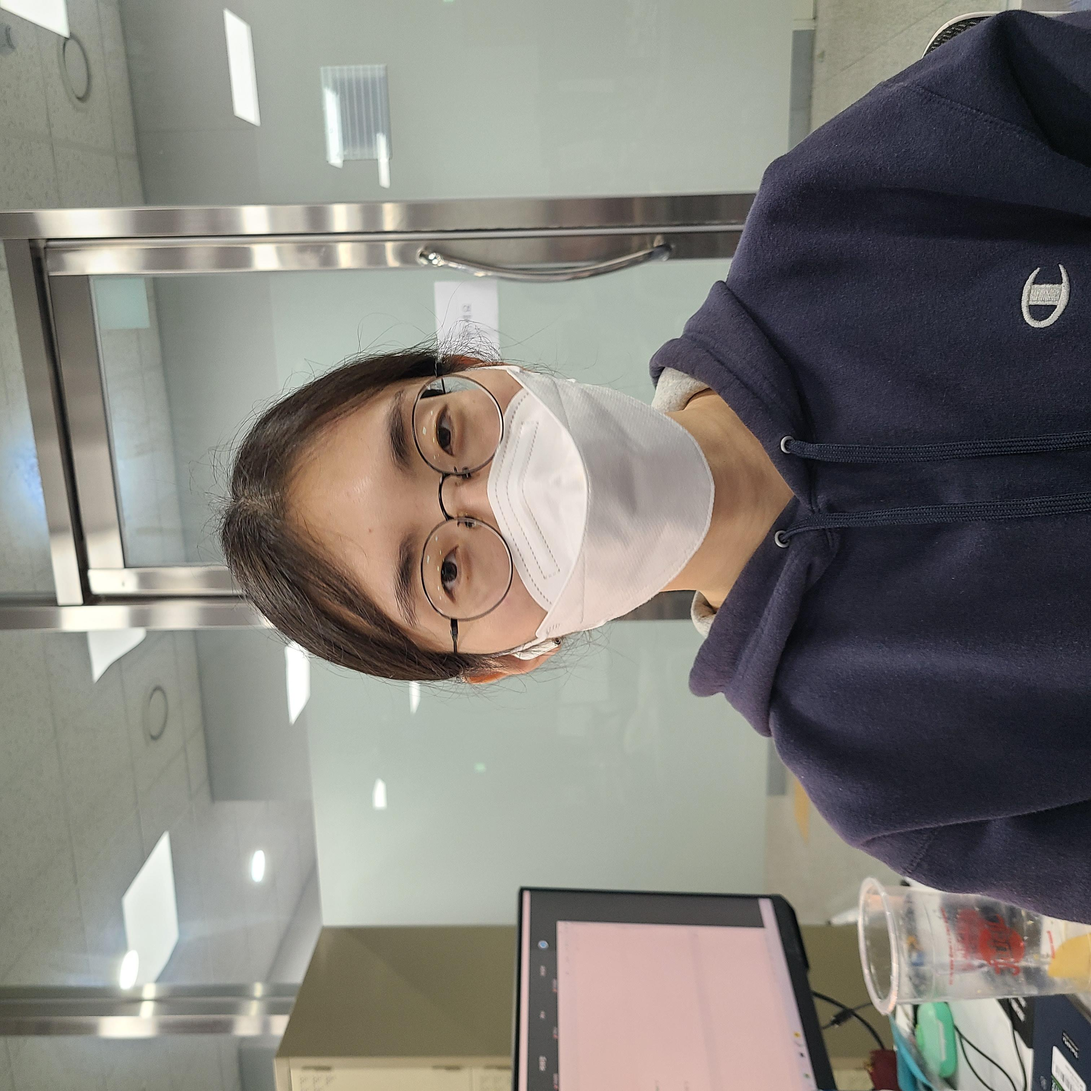earphone: (416, 502, 472, 568)
